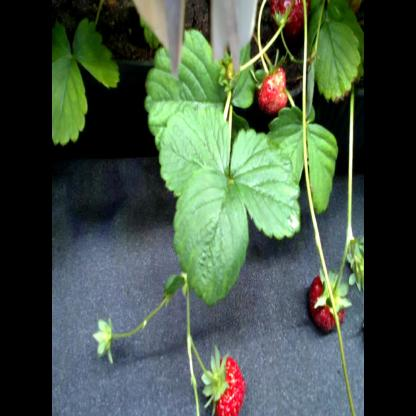ripe: (206, 356, 250, 414), (309, 270, 347, 336), (253, 64, 290, 116), (270, 1, 313, 34)
